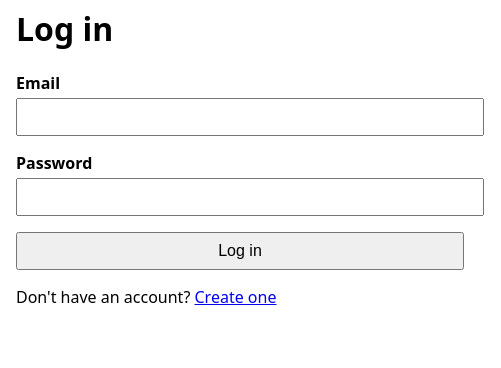
Test: LoginPage › shows validation errors for invalid input
Type "not-an-email" into the field labelled "Email" at (250, 117), box [16,98,484,136]
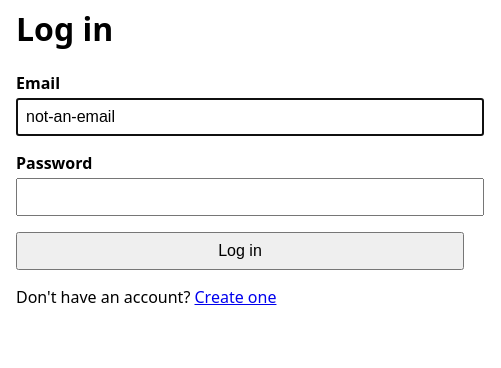
Click the button "Log in" at (240, 251), box [16,232,464,270]
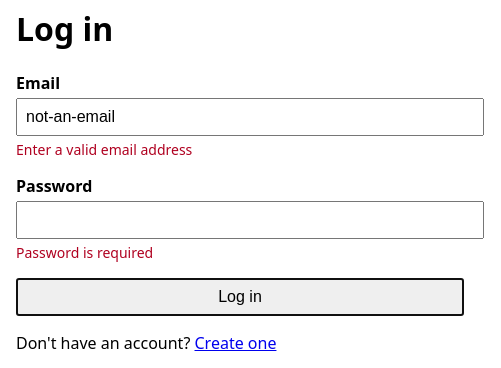
Check: the text "Enter a valid email address" is shown, box [16,140,192,159]
Check: the text "Password is required" is shown, box [16,243,153,262]
